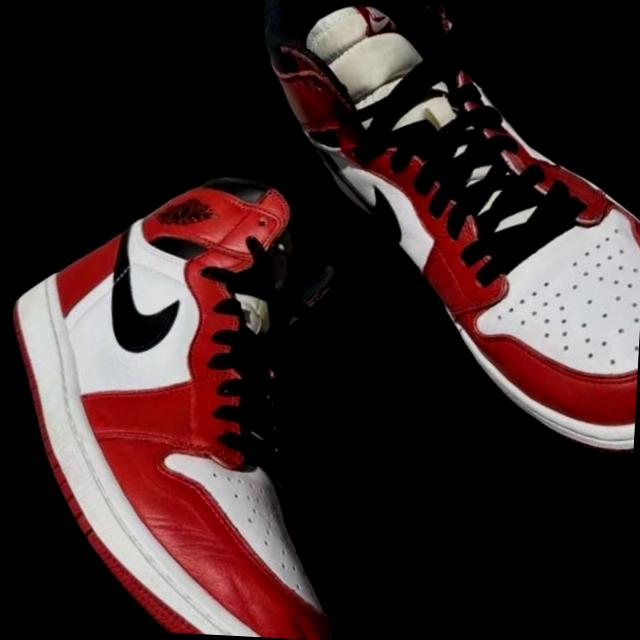nike_original_jordan: (0, 106, 573, 640), (183, 0, 640, 510)
